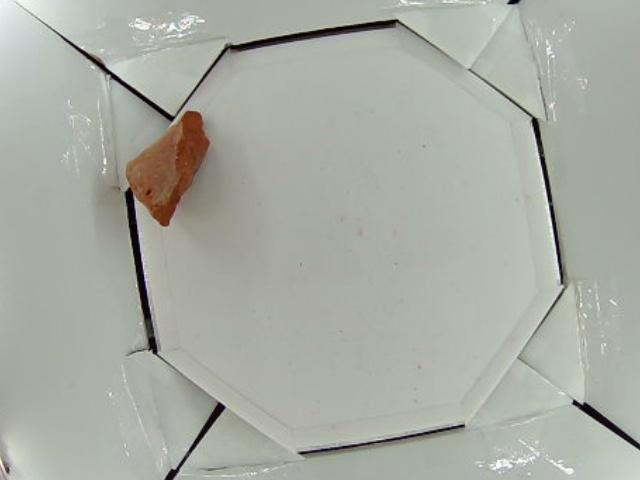Brisk: (126, 111, 209, 223)
